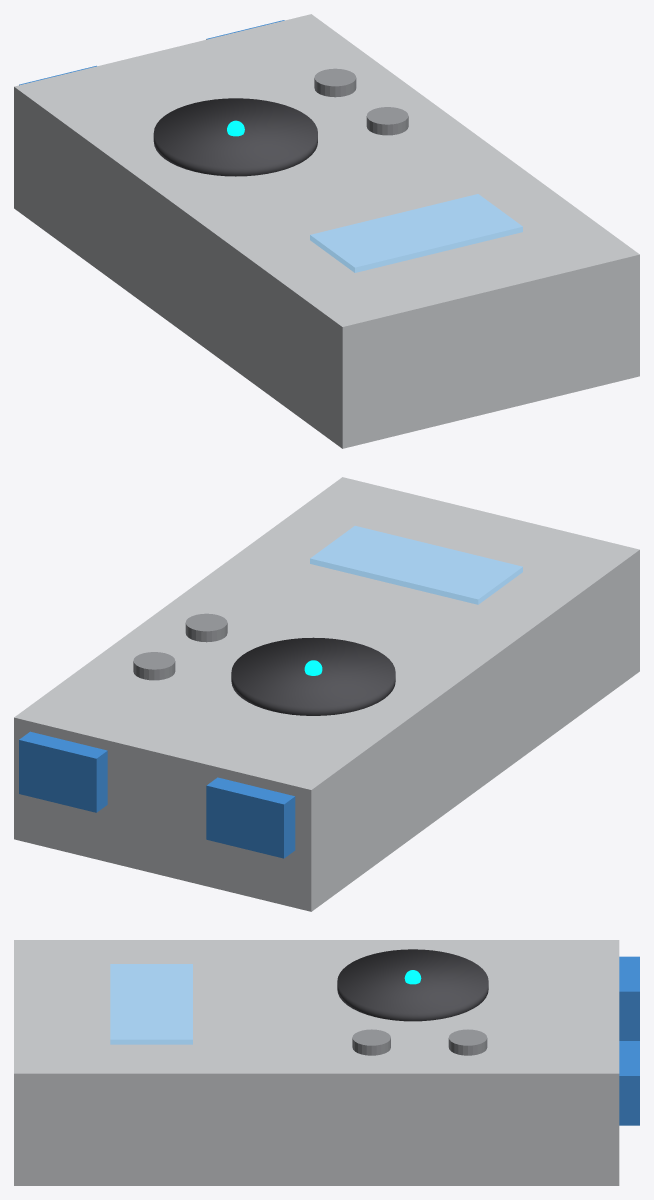
File: concept_5_airdeck_controller.glb
The picture shows the model from 3 angles, top to bottom: view 1: azimuth 30°, elevation 25°; view 2: azimuth 150°, elevation 25°; view 3: azimuth 270°, elevation 25°; orthographic projection. The views are drawn at different scales.
Visible parts, largest first — view 1: AirDeck_Chassis_Magnesium, AirDeck_ConcaveTrackpad, AirDeck_OLED_DisplayPill, AirDeck_ProfileBtn_A, AirDeck_ProfileBtn_B; view 2: AirDeck_Chassis_Magnesium, AirDeck_ConcaveTrackpad, AirDeck_OLED_DisplayPill, AirDeck_ShoulderBumper_L1, AirDeck_ShoulderBumper_R1, AirDeck_ProfileBtn_B, AirDeck_ProfileBtn_A; view 3: AirDeck_Chassis_Magnesium, AirDeck_ConcaveTrackpad, AirDeck_OLED_DisplayPill, AirDeck_ShoulderBumper_L1, AirDeck_ShoulderBumper_R1, AirDeck_ProfileBtn_B, AirDeck_ProfileBtn_A.
Boxes of the visible parts, x1,y1,x2,y2 form: AirDeck_Chassis_Magnesium: [14, 14, 639, 448]; AirDeck_ConcaveTrackpad: [153, 98, 317, 176]; AirDeck_OLED_DisplayPill: [310, 194, 522, 272]; AirDeck_ProfileBtn_A: [366, 107, 408, 135]; AirDeck_ProfileBtn_B: [314, 68, 356, 97]; AirDeck_Chassis_Magnesium: [14, 477, 639, 911]; AirDeck_ConcaveTrackpad: [231, 637, 395, 715]; AirDeck_OLED_DisplayPill: [310, 525, 522, 604]; AirDeck_ShoulderBumper_L1: [206, 777, 295, 858]; AirDeck_ShoulderBumper_R1: [19, 731, 107, 812]; AirDeck_ProfileBtn_B: [133, 652, 175, 680]; AirDeck_ProfileBtn_A: [185, 613, 227, 642]; AirDeck_Chassis_Magnesium: [14, 940, 619, 1185]; AirDeck_ConcaveTrackpad: [337, 949, 488, 1021]; AirDeck_OLED_DisplayPill: [110, 964, 192, 1044]; AirDeck_ShoulderBumper_L1: [619, 956, 639, 1040]; AirDeck_ShoulderBumper_R1: [619, 1041, 639, 1125]; AirDeck_ProfileBtn_B: [448, 1029, 487, 1055]; AirDeck_ProfileBtn_A: [352, 1029, 390, 1055].
Size of the model in its own units: 0.046 by 0.021 by 0.091.
